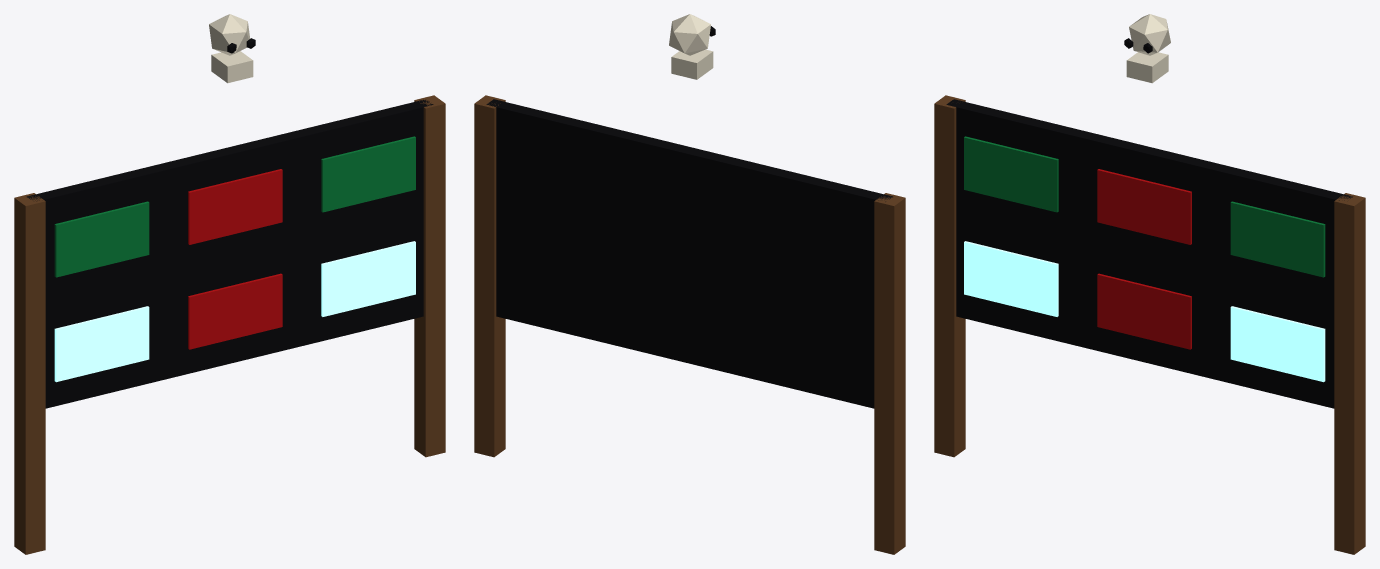
Rendered from Prop_OR_OddsBoard_09.glb.
3 views of the same model, side by side, from view 1: azimuth 30°, elevation 25°; view 2: azimuth 150°, elevation 25°; view 3: azimuth 330°, elevation 25° (orthographic).
Parts seen in each view (by area): view 1: Prop_OR_OddsBoard_09; view 2: Prop_OR_OddsBoard_09; view 3: Prop_OR_OddsBoard_09.
Part boxes in pixels (x1,y1,x2,y2): Prop_OR_OddsBoard_09: (14,14,445,554); Prop_OR_OddsBoard_09: (474,14,905,554); Prop_OR_OddsBoard_09: (934,14,1365,554).
Size of the model in its own units: 3.15 by 3.48 by 0.3057.
